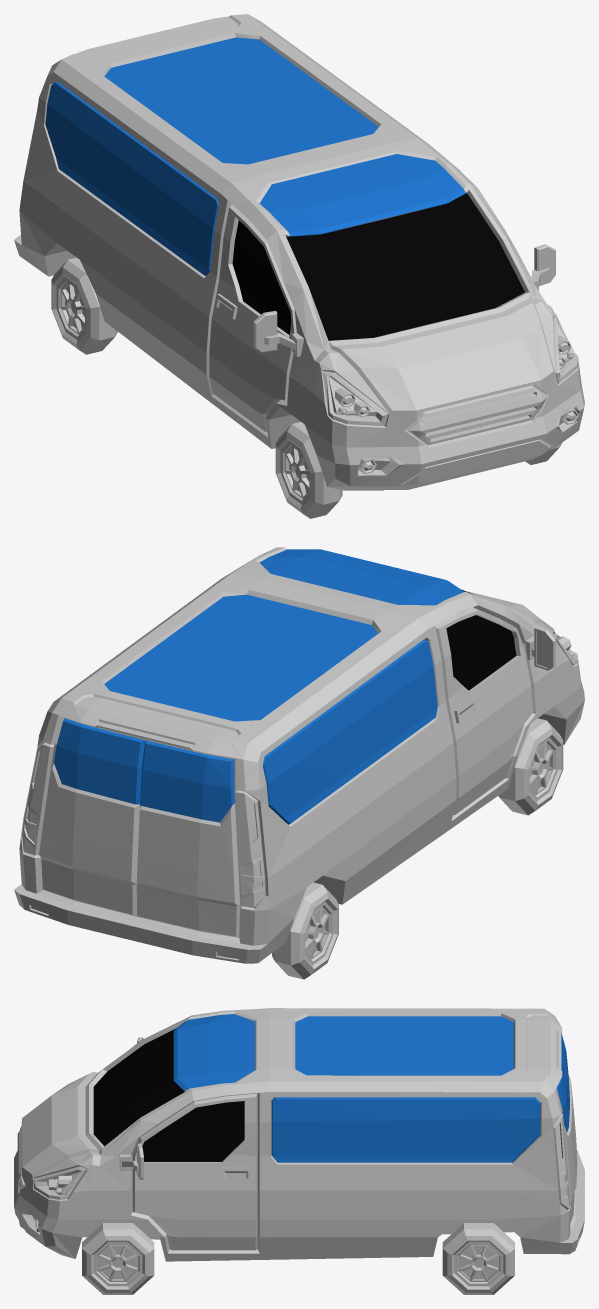
Rendered from PPM_car.fbx.
3 renders of one model, top to bottom at view 1: azimuth 30°, elevation 25°; view 2: azimuth 150°, elevation 25°; view 3: azimuth 270°, elevation 25°, orthographic. The views are drawn at different scales.
Visible parts, largest first — view 1: Symmetry_1, Cylinder_4, Cylinder; view 2: Symmetry_1, Cylinder_4, Cylinder; view 3: Symmetry_1, Cylinder_1, Cylinder_4.
Part boxes in pixels (x1,y1,x2,y2): Symmetry_1: (14, 14, 584, 490); Cylinder_4: (51, 257, 117, 354); Cylinder: (275, 422, 342, 518); Symmetry_1: (14, 547, 584, 963); Cylinder_4: (272, 882, 338, 979); Cylinder: (498, 718, 563, 815); Symmetry_1: (14, 1008, 584, 1261); Cylinder_1: (82, 1223, 154, 1294); Cylinder_4: (442, 1223, 514, 1294).
Bounding box in the file's own units: 239 × 193 × 488.
